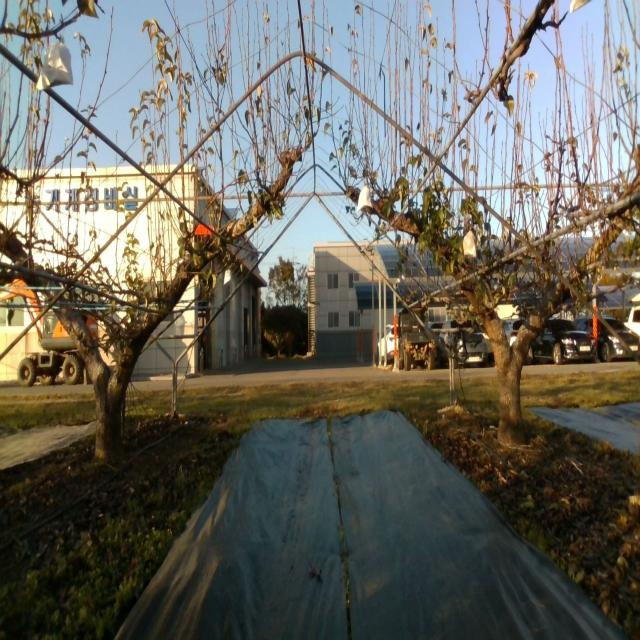pearbags: (36, 32, 74, 92), (462, 227, 478, 260), (356, 186, 374, 215)
